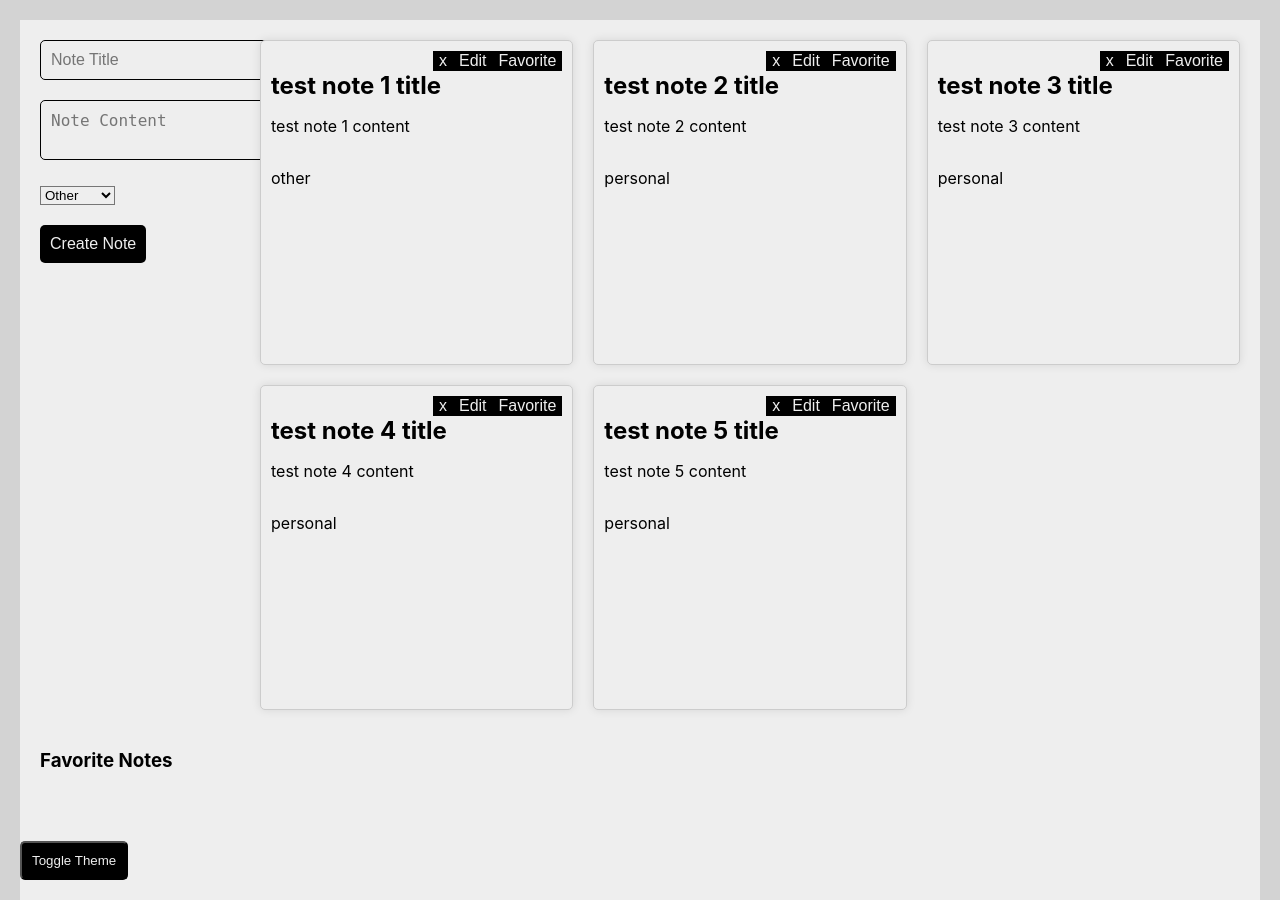
it: Create StickyNote › Check to see if the notes are updated
Type "Initial Title" into the field with placeholder "Note Title".
click(154, 60); type("Initial Title")  # box [40,40,269,80]
Type "Initial Content" into the text box with placeholder "Note Content".
click(158, 130); type("Initial Content")  # box [40,100,277,160]
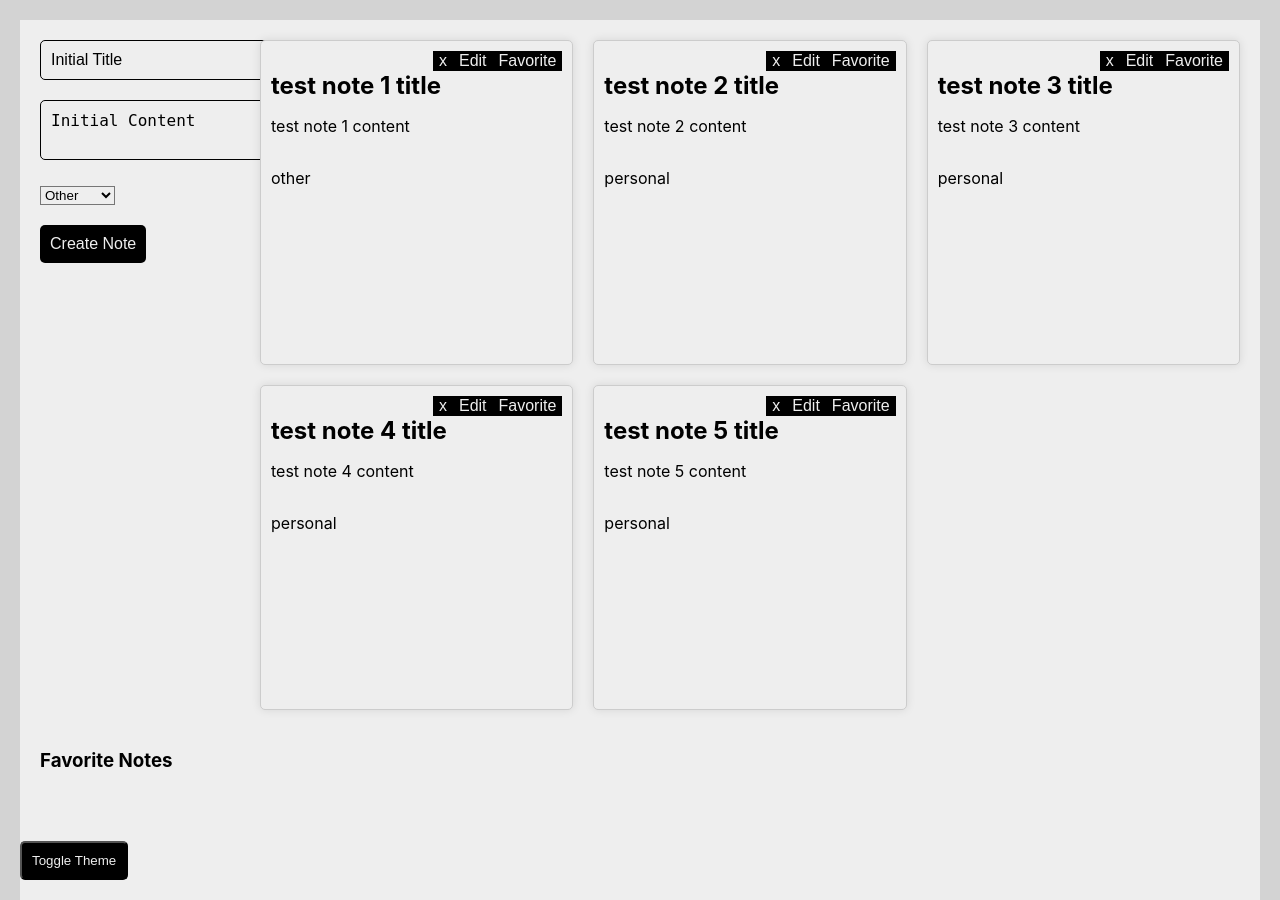
Click the button "Create Note".
click(93, 244)  # box [40,225,146,263]
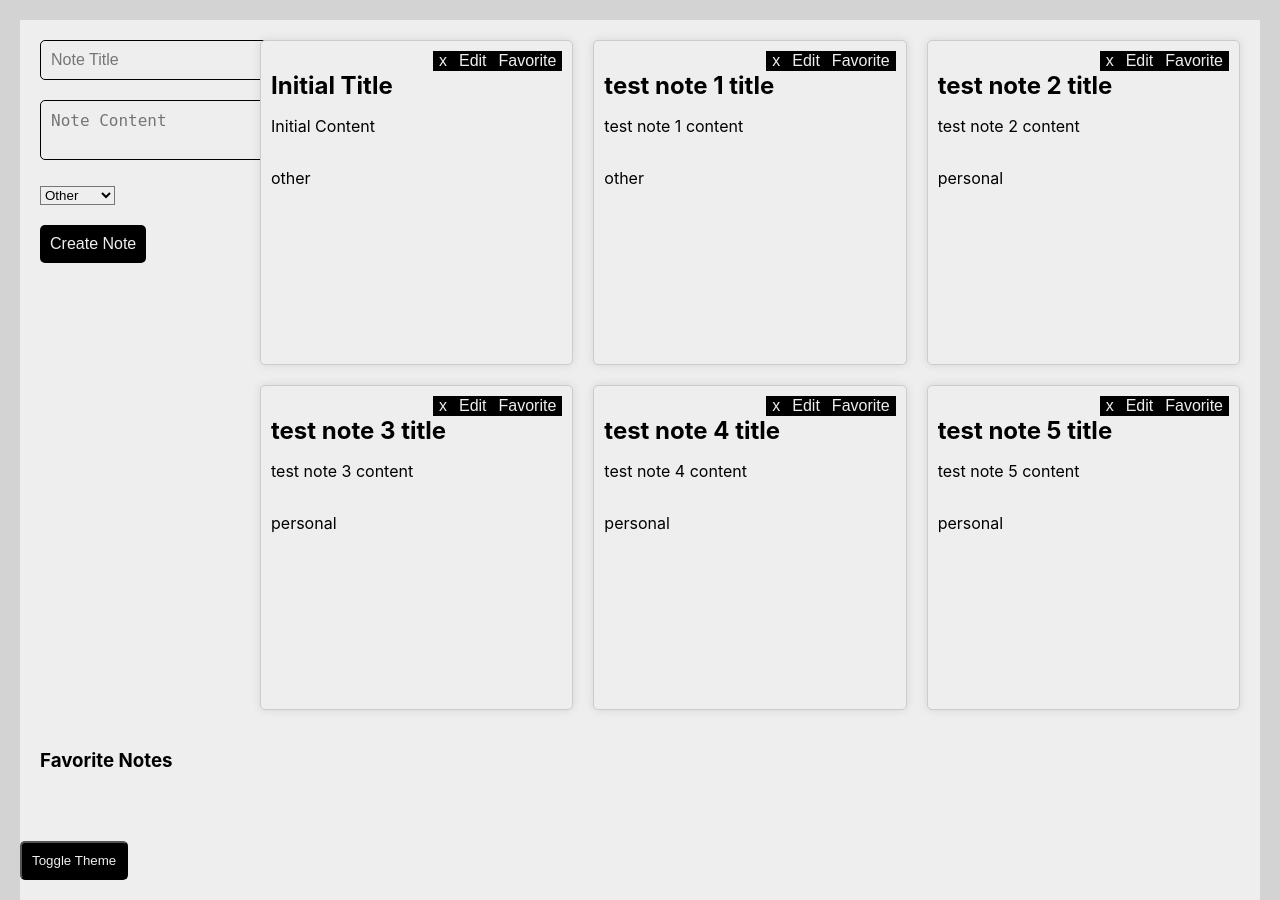
// edit the note
Click the 1st button "Edit".
click(473, 61)  # box [453,51,493,71]
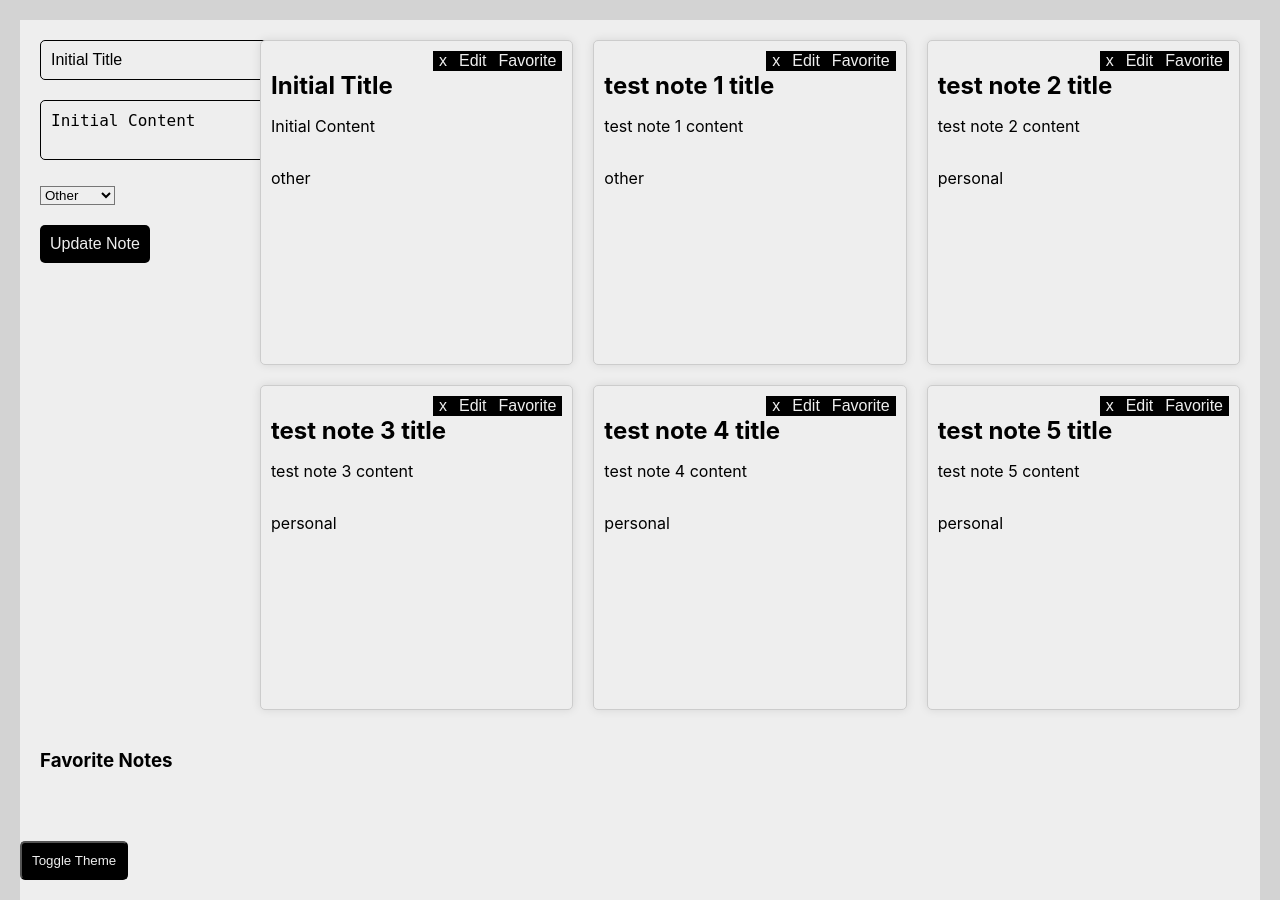
Replace the text in the field with placeholder "Note Title" with "Updated Title" at (154, 60), box [40,40,269,80]
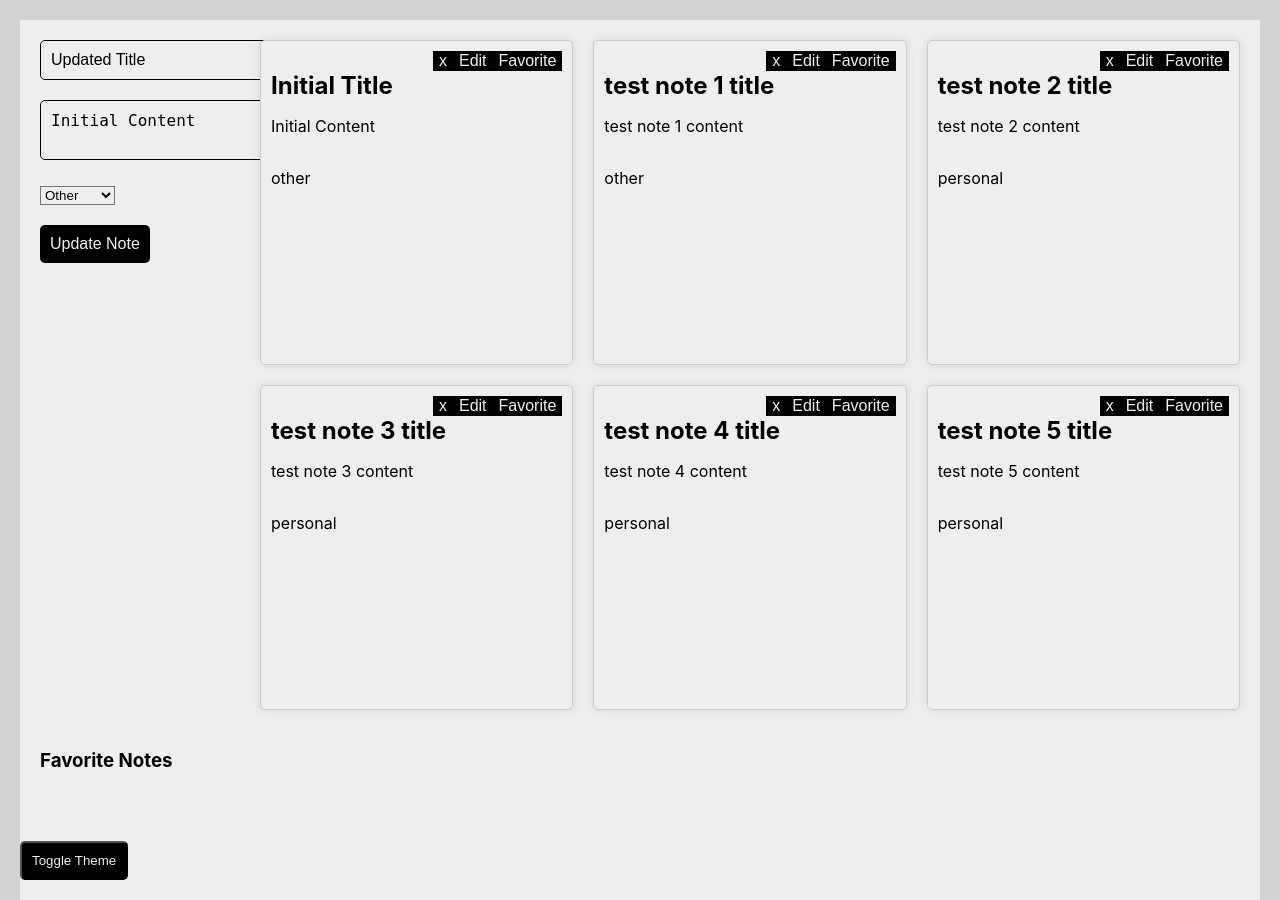
Replace the text in the text box with placeholder "Note Content" with "Updated Content" at (158, 130), box [40,100,277,160]
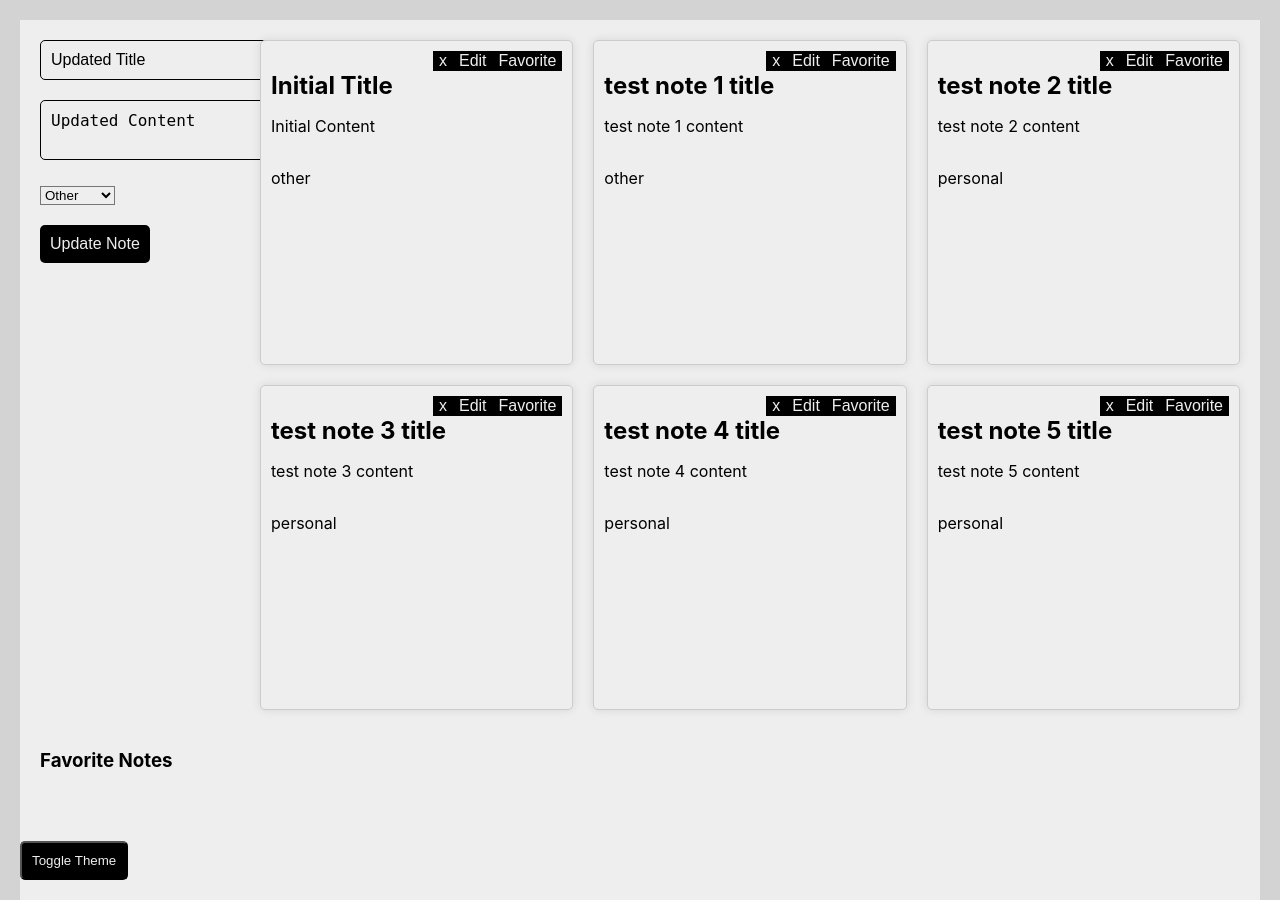
Click the button "Create Note".
click(95, 244)  # box [40,225,150,263]
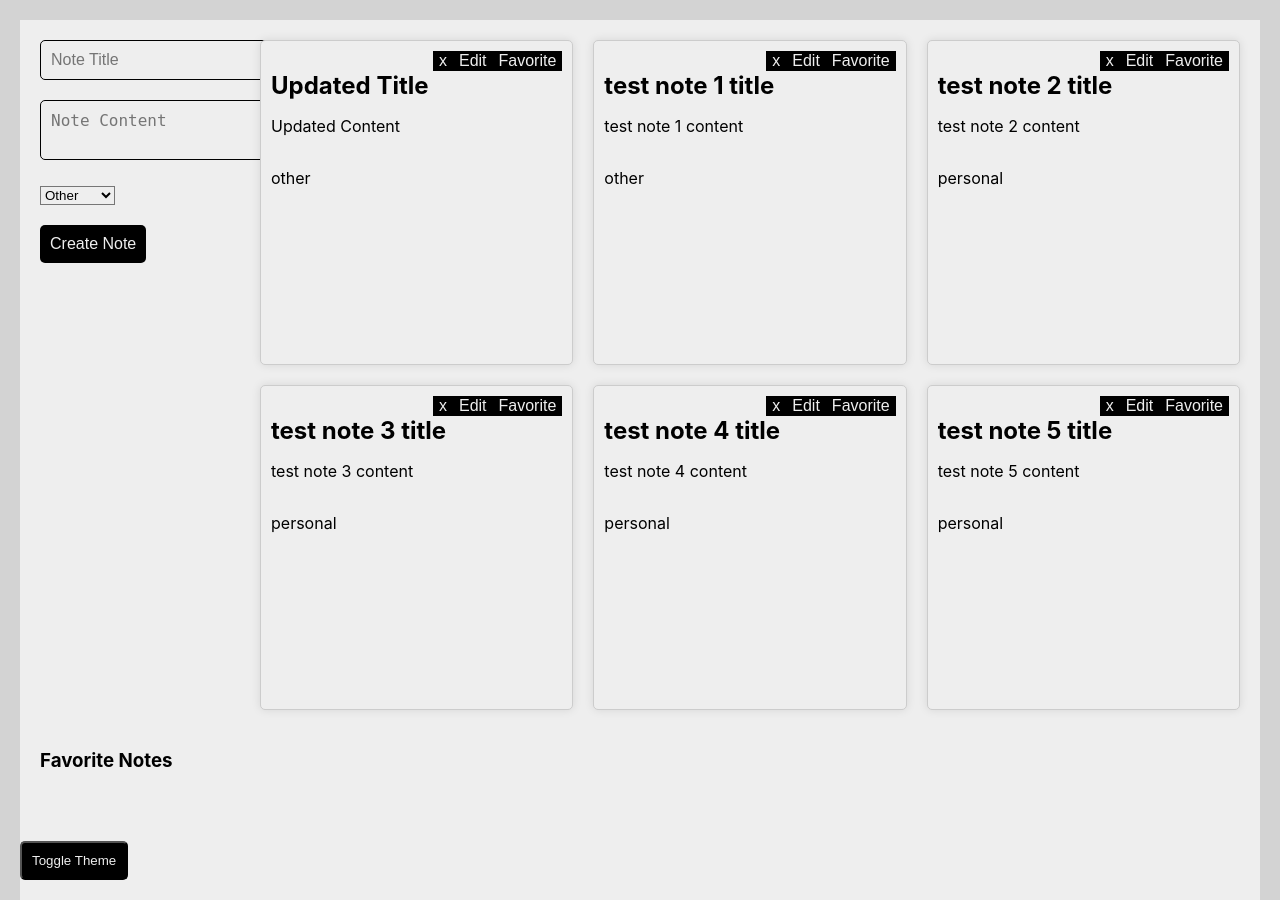
Check: the heading "Updated Title" is shown, box [271,71,429,100]
Check: the text "Updated Content" is shown, box [271,116,400,136]
